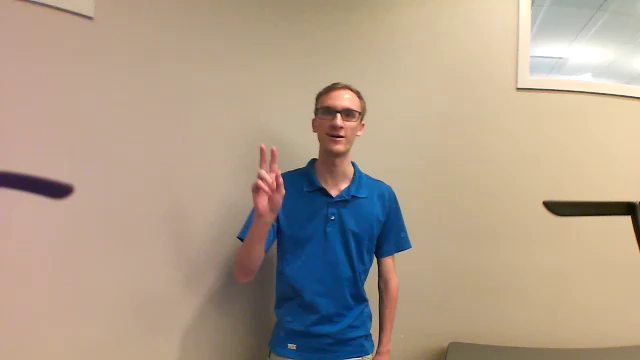peace: (242, 144, 293, 226)
